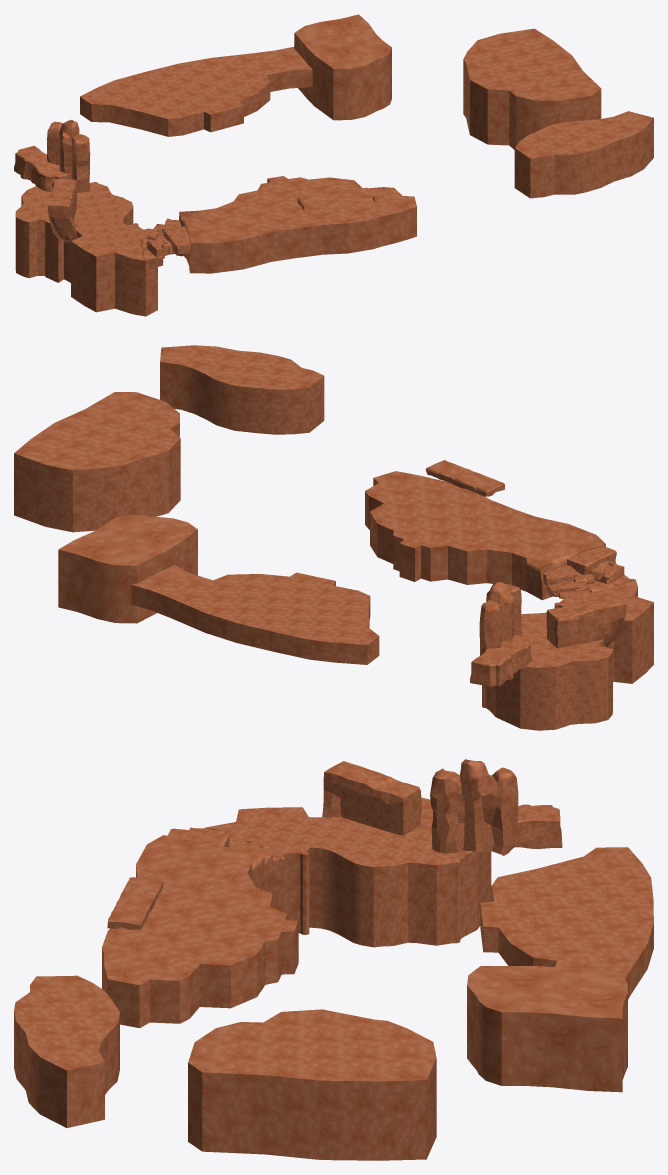
Rendered from CanyonLevelSpecialLedgesTextured.fbx.
3 views of the same model, one above another, from view 1: azimuth 30°, elevation 25°; view 2: azimuth 150°, elevation 25°; view 3: azimuth 270°, elevation 25° (orthographic). The views are drawn at different scales.
Parts seen in each view (by area): view 1: Plateau_2, Plateau_3, Plateau_1, plateau_4, polySurface3, Plateau_4, polySurface2, pipe_platform_entry_high, pipe_platfor_entry_low, Ledge, climb_rock_1, click_rock_3; view 2: plateau_4, Plateau_2, Plateau_3, Plateau_1, polySurface3, Plateau_4, pipe_platform_entry_high, polySurface2, pipe_platfor_entry_low, Ledge, climb_rock_1, click_rock_3; view 3: plateau_4, Plateau_2, Plateau_1, Plateau_4, Plateau_3, polySurface3, polySurface2, pipe_platform_entry_high, Ledge, pipe_platfor_entry_low, climb_rock_1.
Boxes of the visible parts, x1=… form: Plateau_2: x1=179, y1=176, x2=416, y2=273; Plateau_3: x1=80, y1=47, x2=312, y2=136; Plateau_1: x1=15, y1=182, x2=157, y2=316; plateau_4: x1=463, y1=28, x2=601, y2=149; polySurface3: x1=514, y1=111, x2=653, y2=198; Plateau_4: x1=294, y1=14, x2=391, y2=120; polySurface2: x1=47, y1=119, x2=90, y2=192; pipe_platform_entry_high: x1=47, y1=178, x2=77, y2=242; pipe_platfor_entry_low: x1=14, y1=145, x2=69, y2=191; Ledge: x1=297, y1=187, x2=374, y2=211; climb_rock_1: x1=163, y1=226, x2=190, y2=256; click_rock_3: x1=146, y1=232, x2=174, y2=258; plateau_4: x1=14, y1=392, x2=180, y2=532; Plateau_2: x1=365, y1=471, x2=605, y2=600; Plateau_3: x1=131, y1=565, x2=379, y2=664; Plateau_1: x1=482, y1=579, x2=653, y2=730; polySurface3: x1=160, y1=345, x2=324, y2=434; Plateau_4: x1=58, y1=515, x2=197, y2=623; pipe_platform_entry_high: x1=546, y1=595, x2=626, y2=647; polySurface2: x1=479, y1=582, x2=521, y2=655; pipe_platfor_entry_low: x1=470, y1=634, x2=531, y2=686; Ledge: x1=425, y1=460, x2=504, y2=496; climb_rock_1: x1=567, y1=546, x2=616, y2=574; click_rock_3: x1=574, y1=560, x2=624, y2=584; plateau_4: x1=188, y1=1009, x2=436, y2=1160; Plateau_2: x1=102, y1=835, x2=298, y2=1028; Plateau_1: x1=204, y1=797, x2=491, y2=947; Plateau_4: x1=467, y1=966, x2=627, y2=1092; Plateau_3: x1=480, y1=847, x2=653, y2=999; polySurface3: x1=14, y1=975, x2=119, y2=1127; polySurface2: x1=430, y1=759, x2=518, y2=855; pipe_platform_entry_high: x1=322, y1=761, x2=421, y2=835; Ledge: x1=107, y1=877, x2=163, y2=929; pipe_platfor_entry_low: x1=514, y1=804, x2=562, y2=848; climb_rock_1: x1=167, y1=828, x2=229, y2=847.
Bounding box in the file's own units: 53532 × 11510 × 39319.
